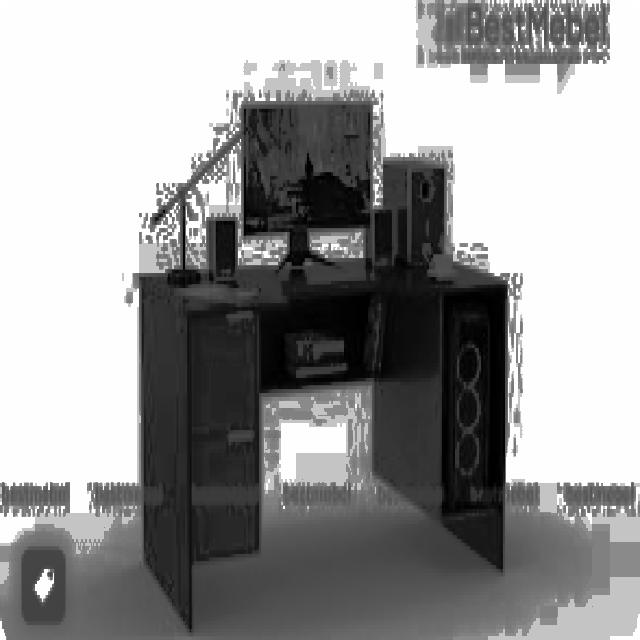table: (137, 255, 507, 632)
